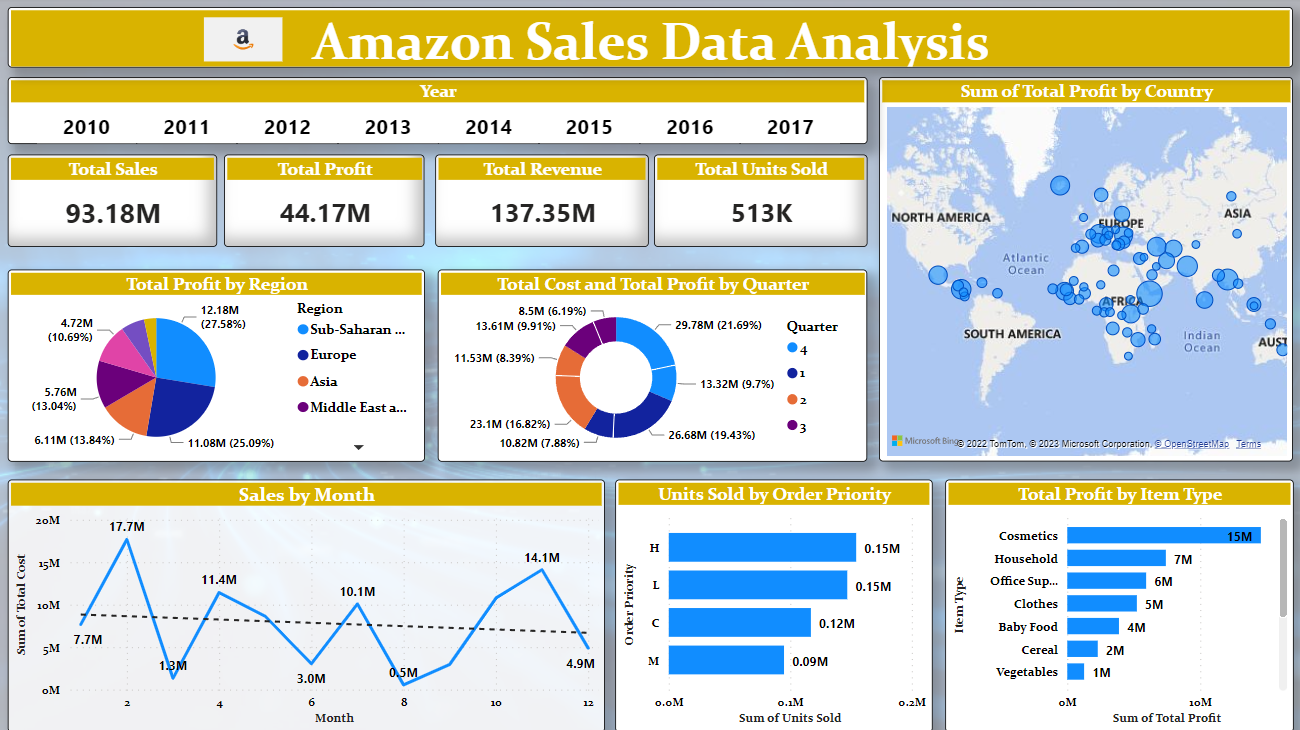

The dashboard page shown, as its layout file describes it:
{"tool":"powerbi","page":{"name":"Page 1","canvas":[1280,720],"ordinal":0},"visuals":[{"type":"lineChart","title":"Sales by Month","fields":{"Y":["Sum(Amazon Sales data.Total Cost)"],"Category":["Amazon Sales data.Month"]},"box":[13.7,472.4,583.7,247.2],"z":0},{"type":"barChart","title":"Units Sold by Order Priority","fields":{"Category":["Amazon Sales data.Order Priority"],"Y":["Sum(Amazon Sales data.Units Sold)"]},"box":[607,472.4,310.4,247.2],"z":1000},{"type":"barChart","title":"Total Profit by Item Type","fields":{"Category":["Amazon Sales data.Item Type"],"Y":["Sum(Amazon Sales data.Total Profit)"]},"box":[929.8,472.4,340.6,247.2],"z":2000},{"type":"pieChart","title":"Total Profit by Region","fields":{"Category":["Amazon Sales data.Region"],"Y":["Sum(Amazon Sales data.Total Profit)"]},"box":[13.7,266.4,407.9,188.2],"z":3000},{"type":"donutChart","title":"Total Cost and Total Profit by Quarter","fields":{"Category":["Amazon Sales data.Quarter"],"Y":["Sum(Amazon Sales data.Total Cost)","Sum(Amazon Sales data.Total Profit)"]},"box":[434,266.4,420.3,188.2],"z":4000},{"type":"map","fields":{"Category":["Amazon Sales data.Country"],"Size":["Sum(Amazon Sales data.Total Profit)"]},"box":[865.2,78.3,405.2,376.3],"z":5000},{"type":"slicer","title":"Year","fields":{"Values":["Amazon Sales data.Year"]},"box":[13.7,78.3,840.5,65.9],"z":6000},{"type":"card","title":"Total Sales","fields":{"Values":["Sum(Amazon Sales data.Total Cost)"]},"box":[13.7,153.8,204.6,90.6],"z":7000},{"type":"card","title":"Total Profit","fields":{"Values":["Sum(Amazon Sales data.Total Profit)"]},"box":[225.2,153.8,196.4,90.6],"z":8000},{"type":"card","title":"Total Revenue","fields":{"Values":["Sum(Amazon Sales data.Total Revenue)"]},"box":[431.2,153.8,208.8,90.6],"z":9000},{"type":"card","title":"Total Units Sold","fields":{"Values":["Sum(Amazon Sales data.Units Sold)"]},"box":[645.5,153.8,208.8,90.6],"z":10000},{"type":"textbox","title":"Amazon Sales Data Analysis","box":[13.7,9.6,1256.7,59.1],"z":11000},{"type":"image","box":[200.5,13.4,86.8,55],"z":12000}]}

Visuals, with their boxes in screenshot pixels (x1, y1, x2, y2), scaled from the page's 1280x720 canvas onto the 1300x730 screenshot:
"Sales by Month" lineChart: 14, 479, 607, 729
"Units Sold by Order Priority" barChart: 616, 479, 932, 729
"Total Profit by Item Type" barChart: 944, 479, 1290, 729
"Total Profit by Region" pieChart: 14, 270, 428, 461
"Total Cost and Total Profit by Quarter" donutChart: 441, 270, 868, 461
map - Amazon Sales data.Country x Sum(Amazon Sales data.Total Profit): 879, 79, 1290, 461
"Year" slicer: 14, 79, 868, 146
"Total Sales" card: 14, 156, 222, 248
"Total Profit" card: 229, 156, 428, 248
"Total Revenue" card: 438, 156, 650, 248
"Total Units Sold" card: 656, 156, 868, 248
"Amazon Sales Data Analysis" textbox: 14, 10, 1290, 70
image: 204, 14, 292, 69
